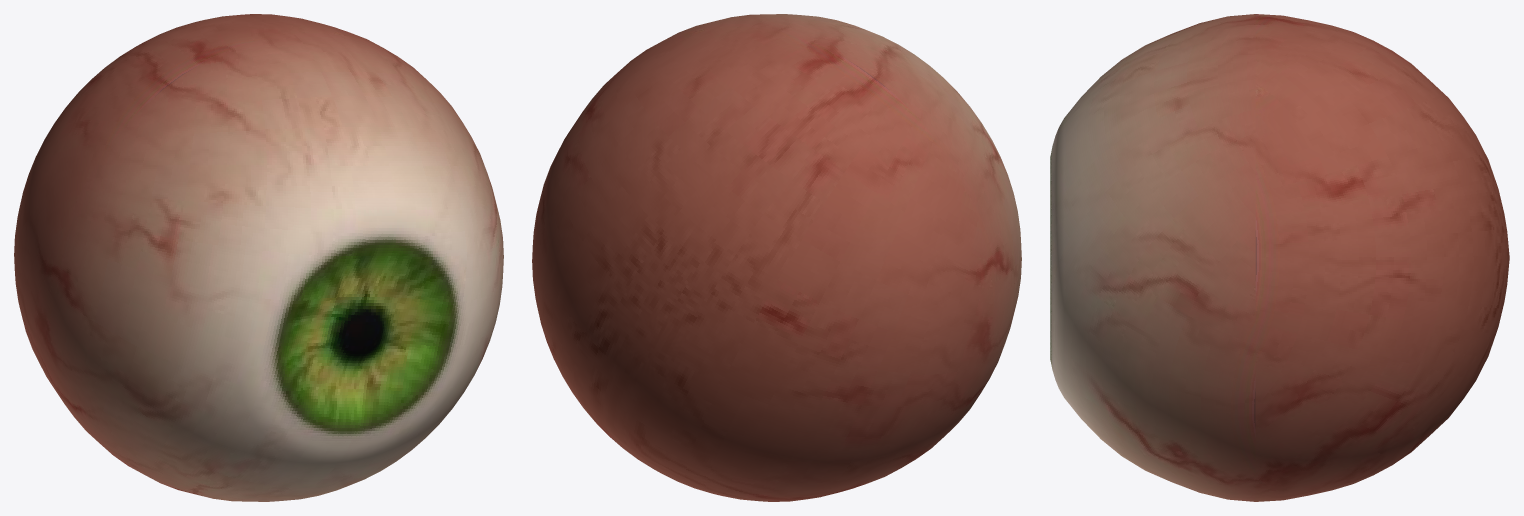
File: Eye.glb
3 renders of one model, left to right at view 1: azimuth 30°, elevation 25°; view 2: azimuth 150°, elevation 25°; view 3: azimuth 270°, elevation 25°, orthographic.
Visible parts, largest first — view 1: Eye; view 2: Eye; view 3: Eye.
Part boxes in pixels (bbox=[...]): Eye: bbox=[14, 14, 503, 501]; Eye: bbox=[532, 14, 1021, 501]; Eye: bbox=[1050, 14, 1509, 501].
Bounding box in the file's own units: 0.1887 × 0.1887 × 0.1775.
Materials: 1 (1 with a texture image).
